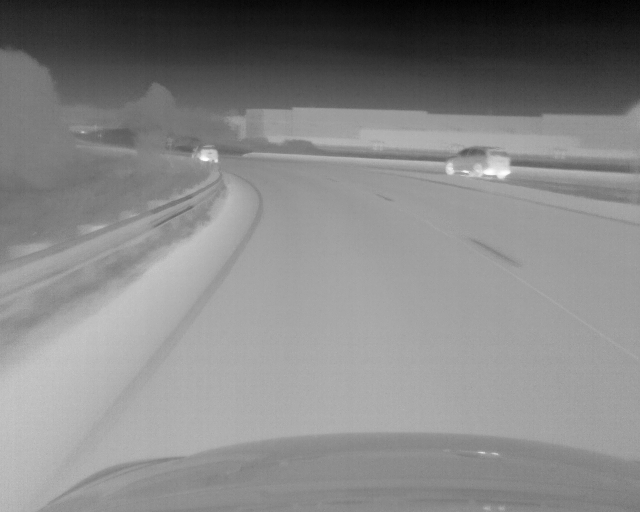car: (444, 145, 511, 181), (193, 143, 220, 162)
